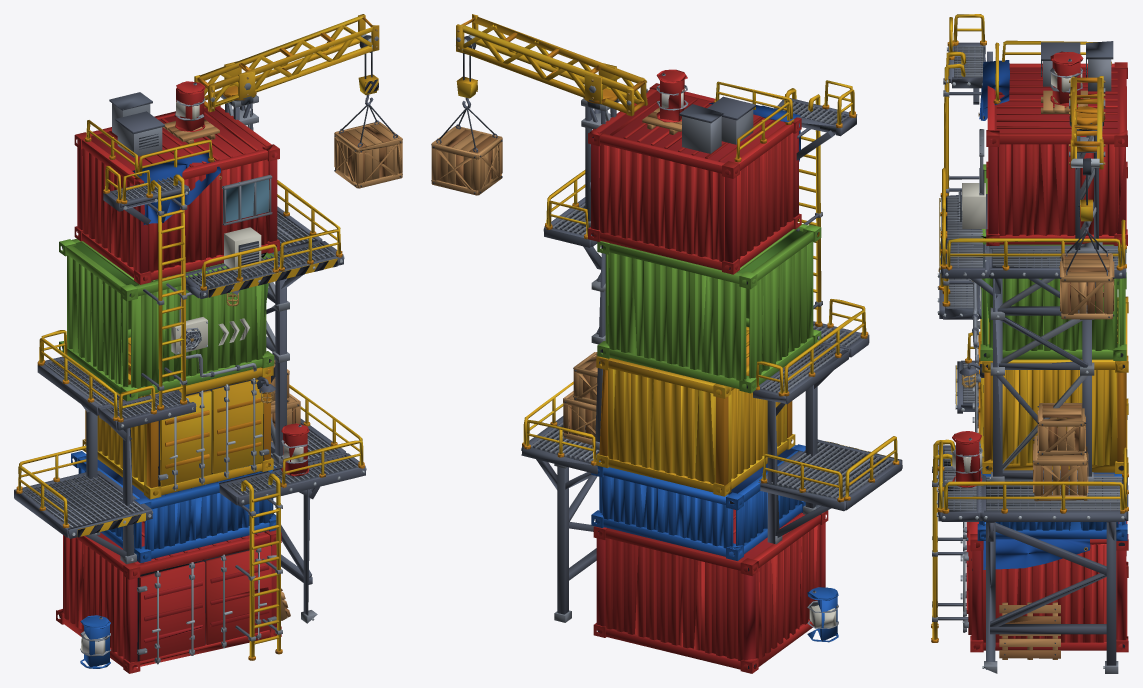
File: container_tower_b.glb
The picture shows the model from 3 angles, left to right: view 1: azimuth 30°, elevation 25°; view 2: azimuth 150°, elevation 25°; view 3: azimuth 270°, elevation 25°; orthographic projection. The views are drawn at different scales.
Parts seen in each view (by area): view 1: container_tower_b; view 2: container_tower_b; view 3: container_tower_b.
Boxes of the visible parts, x1,y1,x2,y2 form: container_tower_b: (14, 14, 402, 673); container_tower_b: (431, 14, 902, 673); container_tower_b: (931, 14, 1128, 673).
Size of what is drawn, in the model's own units: 0.7405 by 0.9993 by 0.3057.
